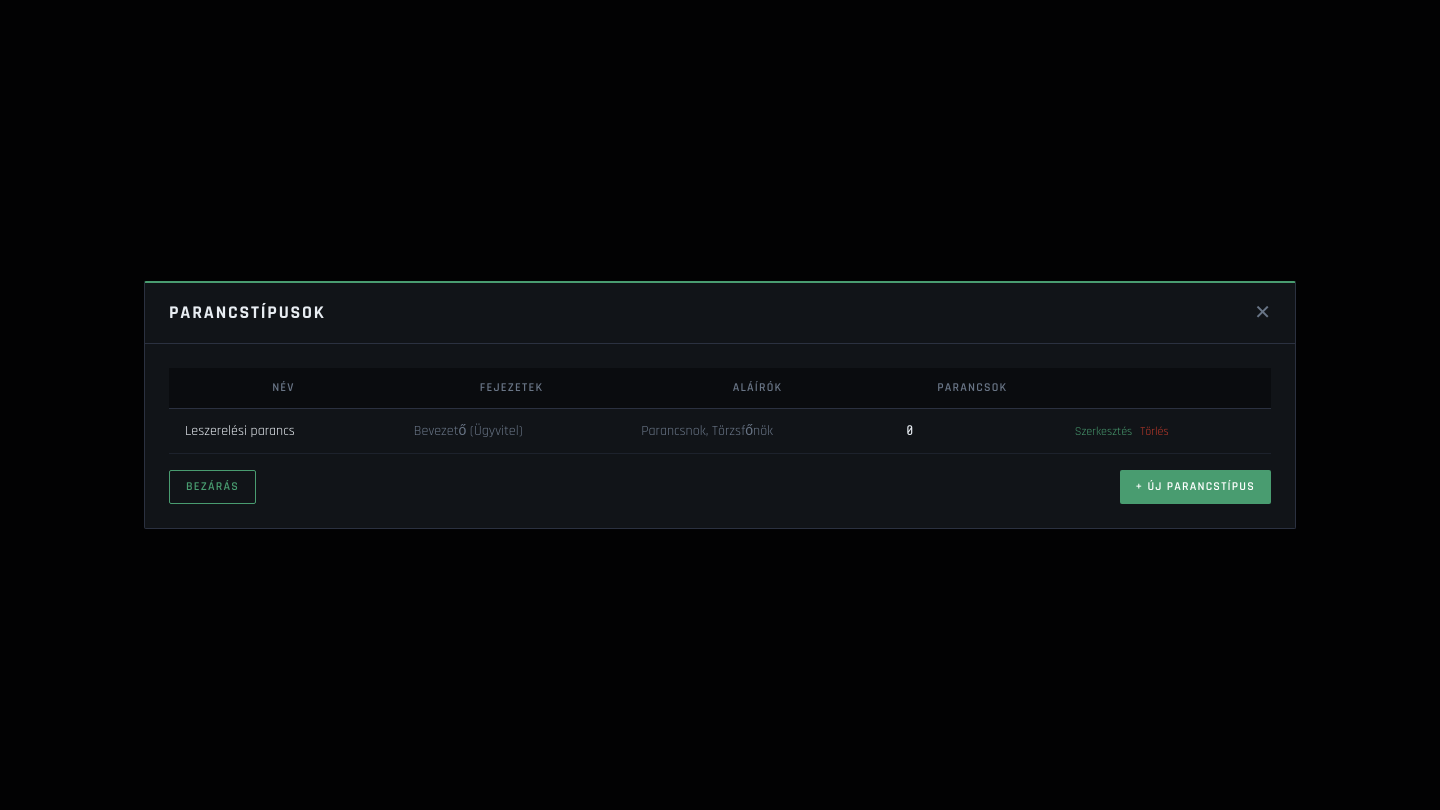
Scenario: parancstípus szerkesztő — aláírók › az aláíró törölhető a × gombbal
Click the button "Szerkesztés" at (1103, 432), box left=1071, top=424, right=1136, bottom=440
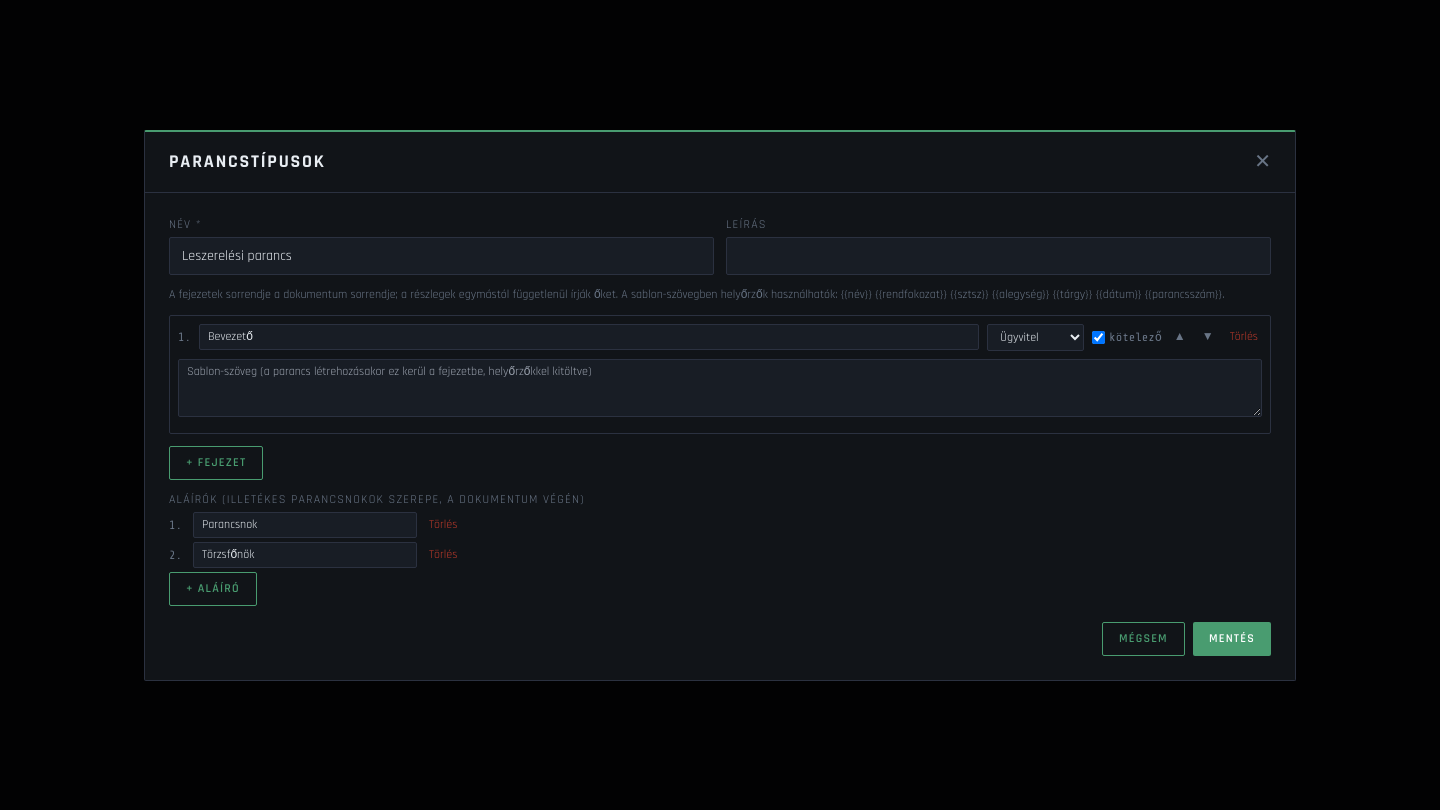
Click the 2nd button titled "Aláíró törlése" at (443, 524), box left=425, top=516, right=461, bottom=532
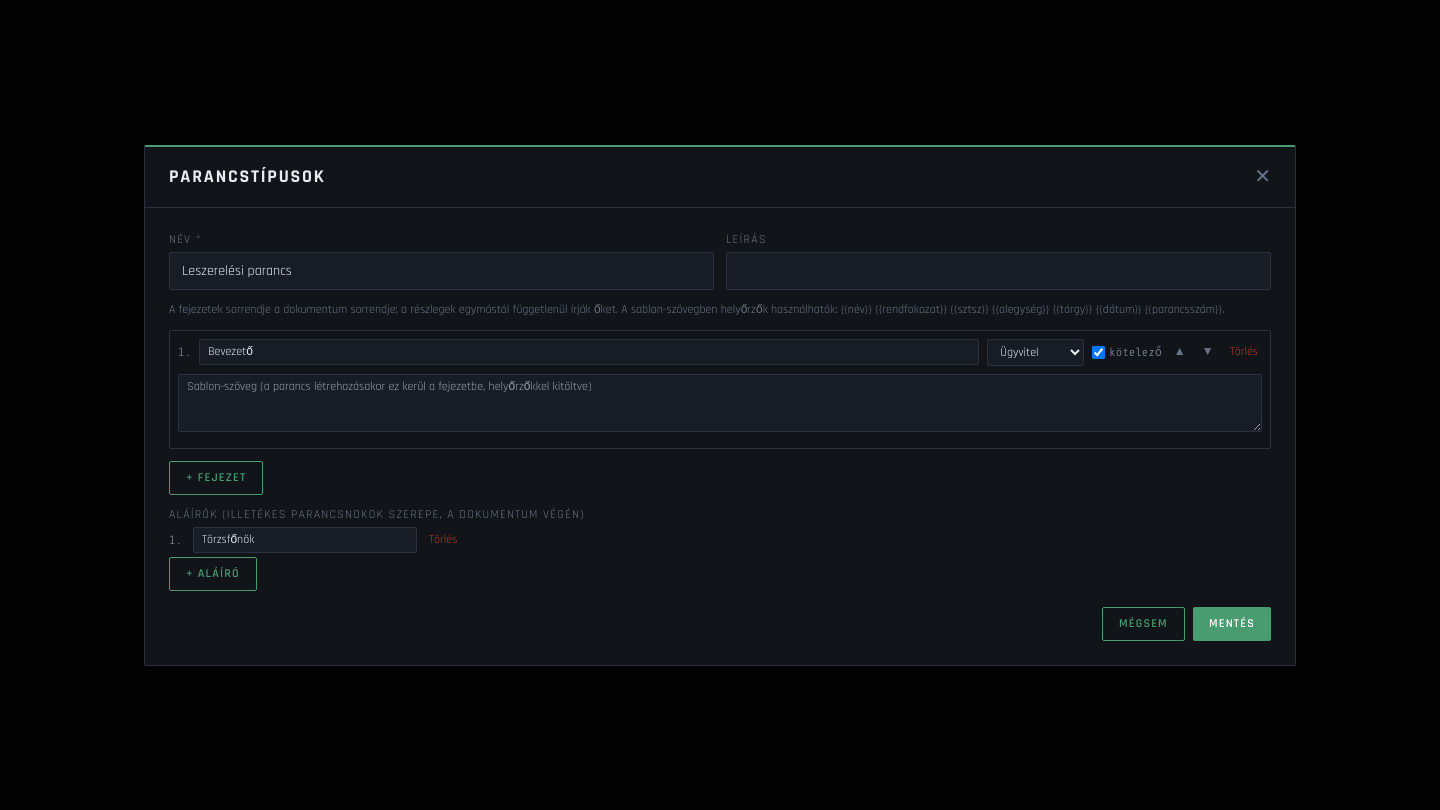
Now the 4th field showing "Törzsfőnök" is shown, box left=193, top=526, right=417, bottom=552
